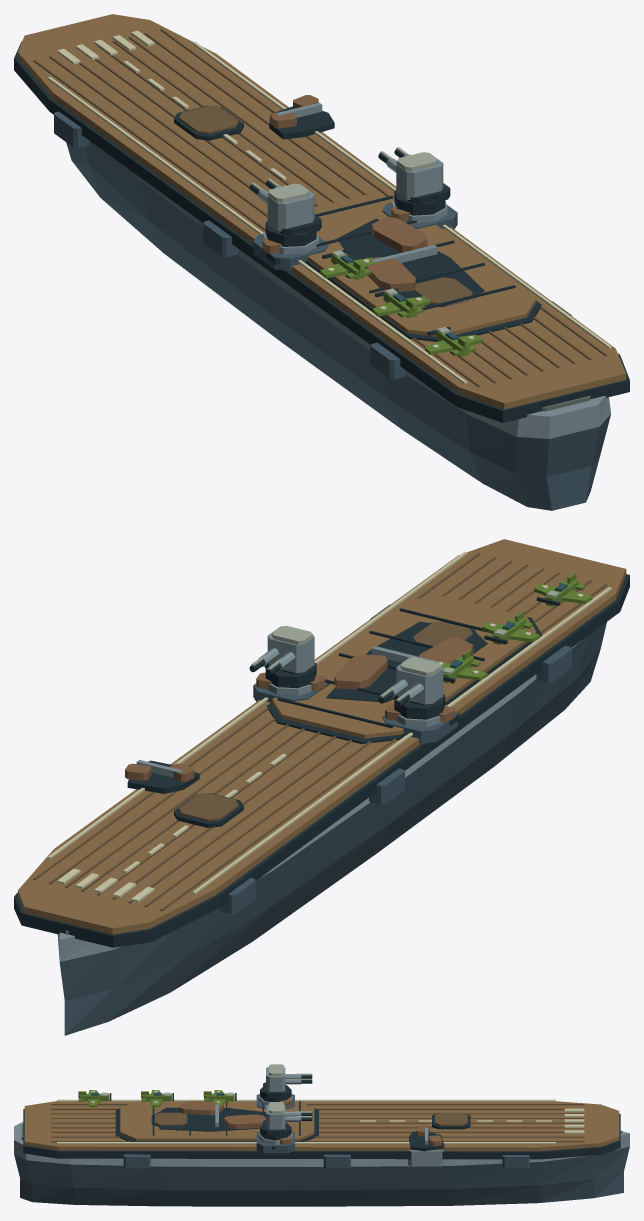
The model's file is historic-charger.glb.
3 renders of one model, top to bottom at view 1: azimuth 30°, elevation 25°; view 2: azimuth 150°, elevation 25°; view 3: azimuth 270°, elevation 25°, orthographic. The views are drawn at different scales.
Visible parts, largest first — view 1: historic-charger-historic-charger-geometry, historic-charger-part_flight-deck.025-geometry, historic-charger-ruin_flight-deck.024-geometry, historic-charger-turret_aa_aa-starboard.083-geometry, historic-charger-turret_aa_aa-port.087-geometry, historic-charger-ruin_bridge.082-geometry, historic-charger-aircraft_lift_0.025-geometry, historic-charger-part_aa-port.087-geometry, historic-charger-aircraft_lift_1.024-geometry, historic-charger-parked_aircraft_1.025-geometry, historic-charger-parked_aircraft_0.025-geometry, historic-charger-parked_aircraft_2.025-geometry (+1 smaller); view 2: historic-charger-historic-charger-geometry, historic-charger-part_flight-deck.025-geometry, historic-charger-ruin_flight-deck.024-geometry, historic-charger-turret_aa_aa-port.087-geometry, historic-charger-turret_aa_aa-starboard.083-geometry, historic-charger-ruin_bridge.082-geometry, historic-charger-aircraft_lift_0.025-geometry, historic-charger-part_aa-port.087-geometry, historic-charger-parked_aircraft_0.025-geometry, historic-charger-parked_aircraft_1.025-geometry, historic-charger-aircraft_lift_1.024-geometry, historic-charger-parked_aircraft_2.025-geometry (+1 smaller); view 3: historic-charger-historic-charger-geometry, historic-charger-part_flight-deck.025-geometry, historic-charger-ruin_flight-deck.024-geometry, historic-charger-turret_aa_aa-port.087-geometry, historic-charger-turret_aa_aa-starboard.083-geometry, historic-charger-ruin_bridge.082-geometry, historic-charger-aircraft_lift_0.025-geometry, historic-charger-part_bridge.083-geometry, historic-charger-part_aa-starboard.083-geometry, historic-charger-aircraft_lift_1.024-geometry, historic-charger-parked_aircraft_0.025-geometry, historic-charger-parked_aircraft_1.025-geometry (+1 smaller).
Part boxes in pixels (x1,y1,x2,y2): historic-charger-historic-charger-geometry: [14, 14, 629, 510]; historic-charger-part_flight-deck.025-geometry: [305, 195, 541, 341]; historic-charger-ruin_flight-deck.024-geometry: [337, 216, 484, 306]; historic-charger-turret_aa_aa-starboard.083-geometry: [378, 147, 450, 215]; historic-charger-turret_aa_aa-port.087-geometry: [249, 178, 321, 246]; historic-charger-ruin_bridge.082-geometry: [269, 95, 334, 139]; historic-charger-aircraft_lift_0.025-geometry: [174, 105, 243, 140]; historic-charger-part_aa-port.087-geometry: [253, 232, 328, 271]; historic-charger-aircraft_lift_1.024-geometry: [414, 277, 475, 307]; historic-charger-parked_aircraft_1.025-geometry: [372, 288, 430, 317]; historic-charger-parked_aircraft_0.025-geometry: [425, 326, 482, 356]; historic-charger-parked_aircraft_2.025-geometry: [320, 250, 377, 279]; historic-charger-historic-charger-geometry: [14, 539, 629, 1035]; historic-charger-part_flight-deck.025-geometry: [267, 596, 541, 743]; historic-charger-ruin_flight-deck.024-geometry: [326, 621, 487, 702]; historic-charger-turret_aa_aa-port.087-geometry: [378, 657, 445, 719]; historic-charger-turret_aa_aa-starboard.083-geometry: [249, 626, 316, 688]; historic-charger-ruin_bridge.082-geometry: [125, 760, 199, 793]; historic-charger-aircraft_lift_0.025-geometry: [174, 793, 243, 827]; historic-charger-part_aa-port.087-geometry: [382, 704, 457, 743]; historic-charger-parked_aircraft_0.025-geometry: [534, 573, 592, 606]; historic-charger-parked_aircraft_1.025-geometry: [482, 611, 539, 644]; historic-charger-aircraft_lift_1.024-geometry: [413, 621, 476, 645]; historic-charger-parked_aircraft_2.025-geometry: [434, 649, 487, 683]; historic-charger-historic-charger-geometry: [14, 1099, 629, 1206]; historic-charger-part_flight-deck.025-geometry: [115, 1101, 318, 1141]; historic-charger-ruin_flight-deck.024-geometry: [154, 1100, 265, 1131]; historic-charger-turret_aa_aa-port.087-geometry: [260, 1064, 312, 1101]; historic-charger-turret_aa_aa-starboard.083-geometry: [260, 1102, 312, 1140]; historic-charger-ruin_bridge.082-geometry: [409, 1125, 444, 1151]; historic-charger-aircraft_lift_0.025-geometry: [432, 1112, 470, 1129]; historic-charger-part_bridge.083-geometry: [408, 1150, 446, 1166]; historic-charger-part_aa-starboard.083-geometry: [256, 1131, 294, 1153]; historic-charger-aircraft_lift_1.024-geometry: [151, 1112, 187, 1126]; historic-charger-parked_aircraft_0.025-geometry: [78, 1090, 111, 1107]; historic-charger-parked_aircraft_1.025-geometry: [141, 1090, 173, 1107].
Size of the model in its own units: 1.27 by 1.1 by 5.89.
